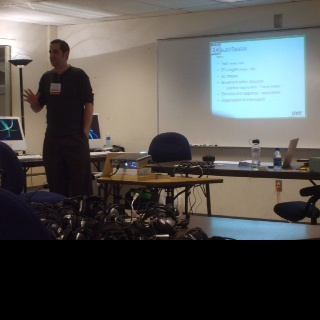without_mask: (49, 42, 65, 67)
